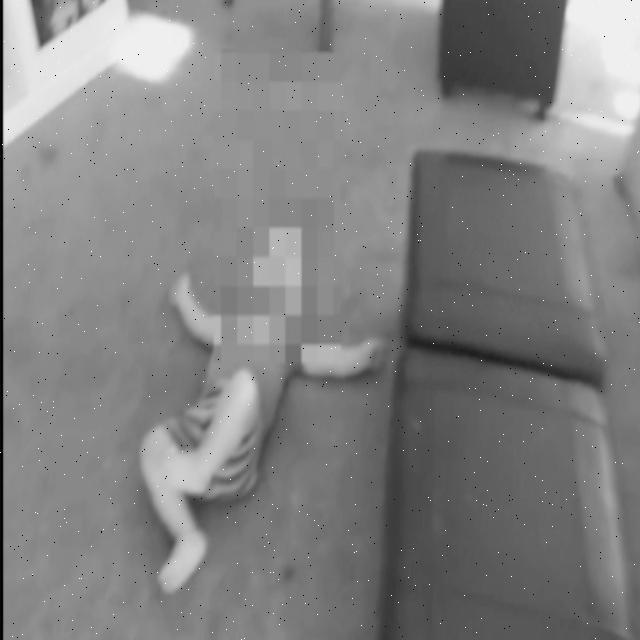child: (135, 213, 384, 588)
